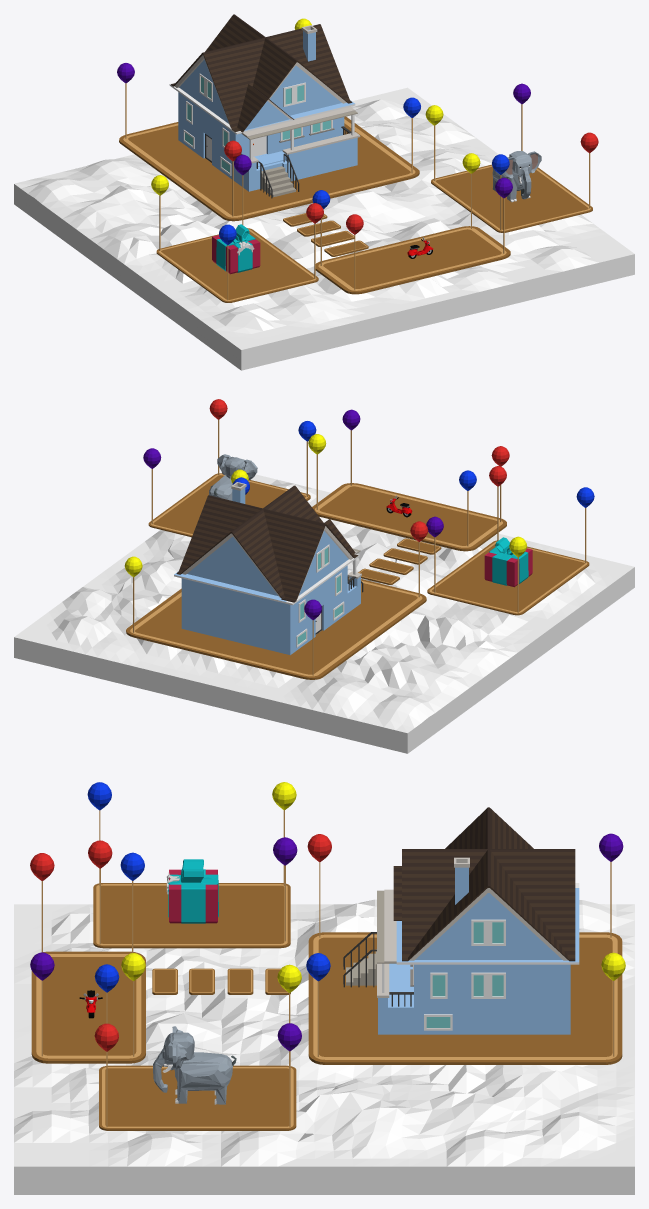
3 views of the same model, one above another, from view 1: azimuth 30°, elevation 25°; view 2: azimuth 150°, elevation 25°; view 3: azimuth 270°, elevation 25° (orthographic). The views are drawn at different scales.
Visible parts, largest first — view 1: Cube.013, Cube.1594, OBJRANDOM_GIANT_PRESENT, ANIMAL_ELEFANTE; view 2: Cube.013, Cube.1594, OBJRANDOM_GIANT_PRESENT, ANIMAL_ELEFANTE; view 3: Cube.013, Cube.1594, ANIMAL_ELEFANTE, OBJRANDOM_GIANT_PRESENT.
Part boxes in pixels (x1,y1,x2,y2): Cube.013: (14, 18, 634, 370); Cube.1594: (169, 14, 360, 198); OBJRANDOM_GIANT_PRESENT: (212, 224, 260, 274); ANIMAL_ELEFANTE: (492, 151, 541, 202); Cube.013: (14, 399, 634, 753); Cube.1594: (174, 482, 363, 655); OBJRANDOM_GIANT_PRESENT: (484, 537, 532, 587); ANIMAL_ELEFANTE: (209, 454, 257, 500); Cube.013: (14, 782, 634, 1194); Cube.1594: (343, 807, 579, 1034); ANIMAL_ELEFANTE: (153, 1026, 236, 1104); OBJRANDOM_GIANT_PRESENT: (166, 859, 218, 923).
Bounding box in the file's own units: 4000 × 1840 × 4000.
35 materials, 1 textured.
